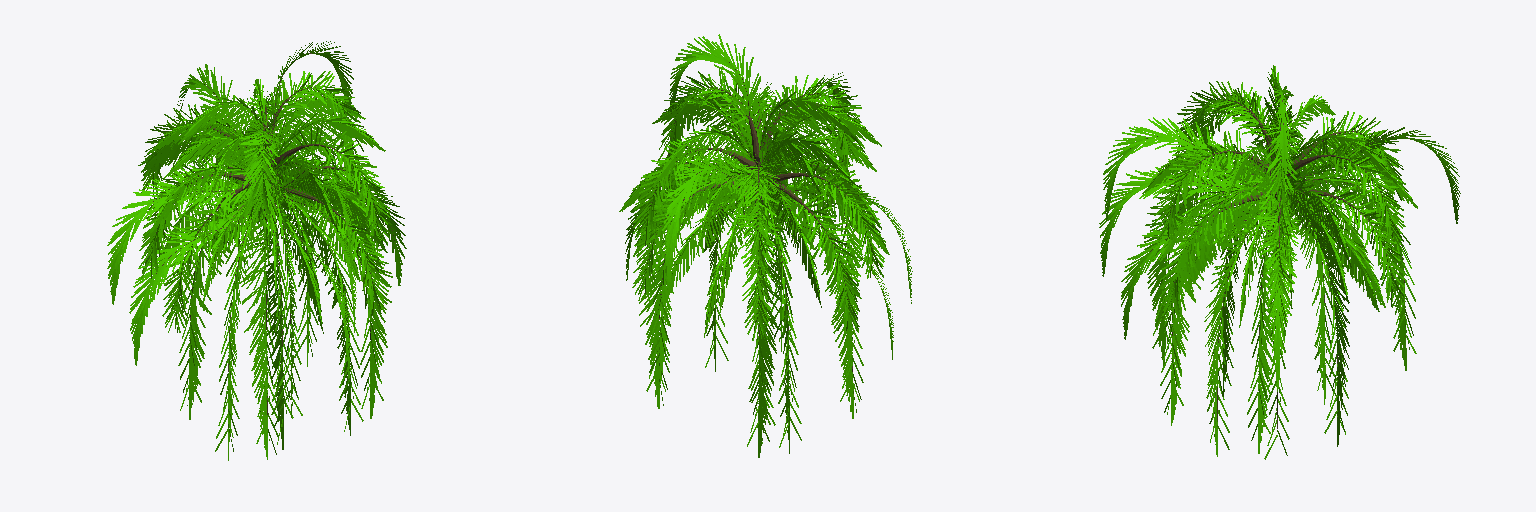
Rendered from palmtreebush.obj.
3 views of the same model, side by side, from view 1: azimuth 30°, elevation 25°; view 2: azimuth 150°, elevation 25°; view 3: azimuth 270°, elevation 25° (orthographic).
Visible parts, largest first — view 1: palm-high; view 2: palm-high; view 3: palm-high.
Boxes of the visible parts, box(x1,y1,x2,y2) form: palm-high: box(107, 41, 406, 460); palm-high: box(619, 34, 912, 457); palm-high: box(1099, 65, 1460, 459).
Bounding box in the file's own units: 2.96 × 3.96 × 3.16.